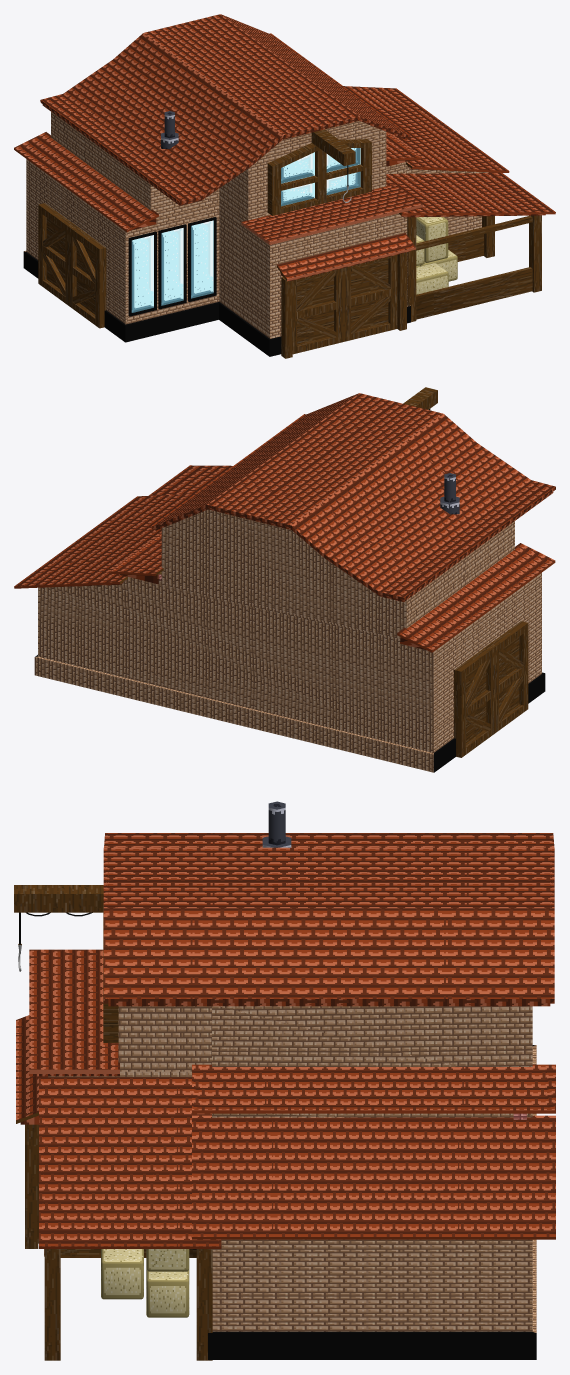
File: Barn Version2.fbx
The picture shows the model from 3 angles, top to bottom: view 1: azimuth 30°, elevation 25°; view 2: azimuth 150°, elevation 25°; view 3: azimuth 270°, elevation 25°; orthographic projection. The views are drawn at different scales.
Visible parts, largest first — view 1: Barn_Outside; view 2: Barn_Outside; view 3: Barn_Outside.
Part boxes in pixels (<box>): Barn_Outside: <box>14,14,555,358</box>; Barn_Outside: <box>14,387,555,772</box>; Barn_Outside: <box>14,801,555,1360</box>.
Bounding box in the file's own units: 480 × 240 × 364.
11 materials, 10 textured.
